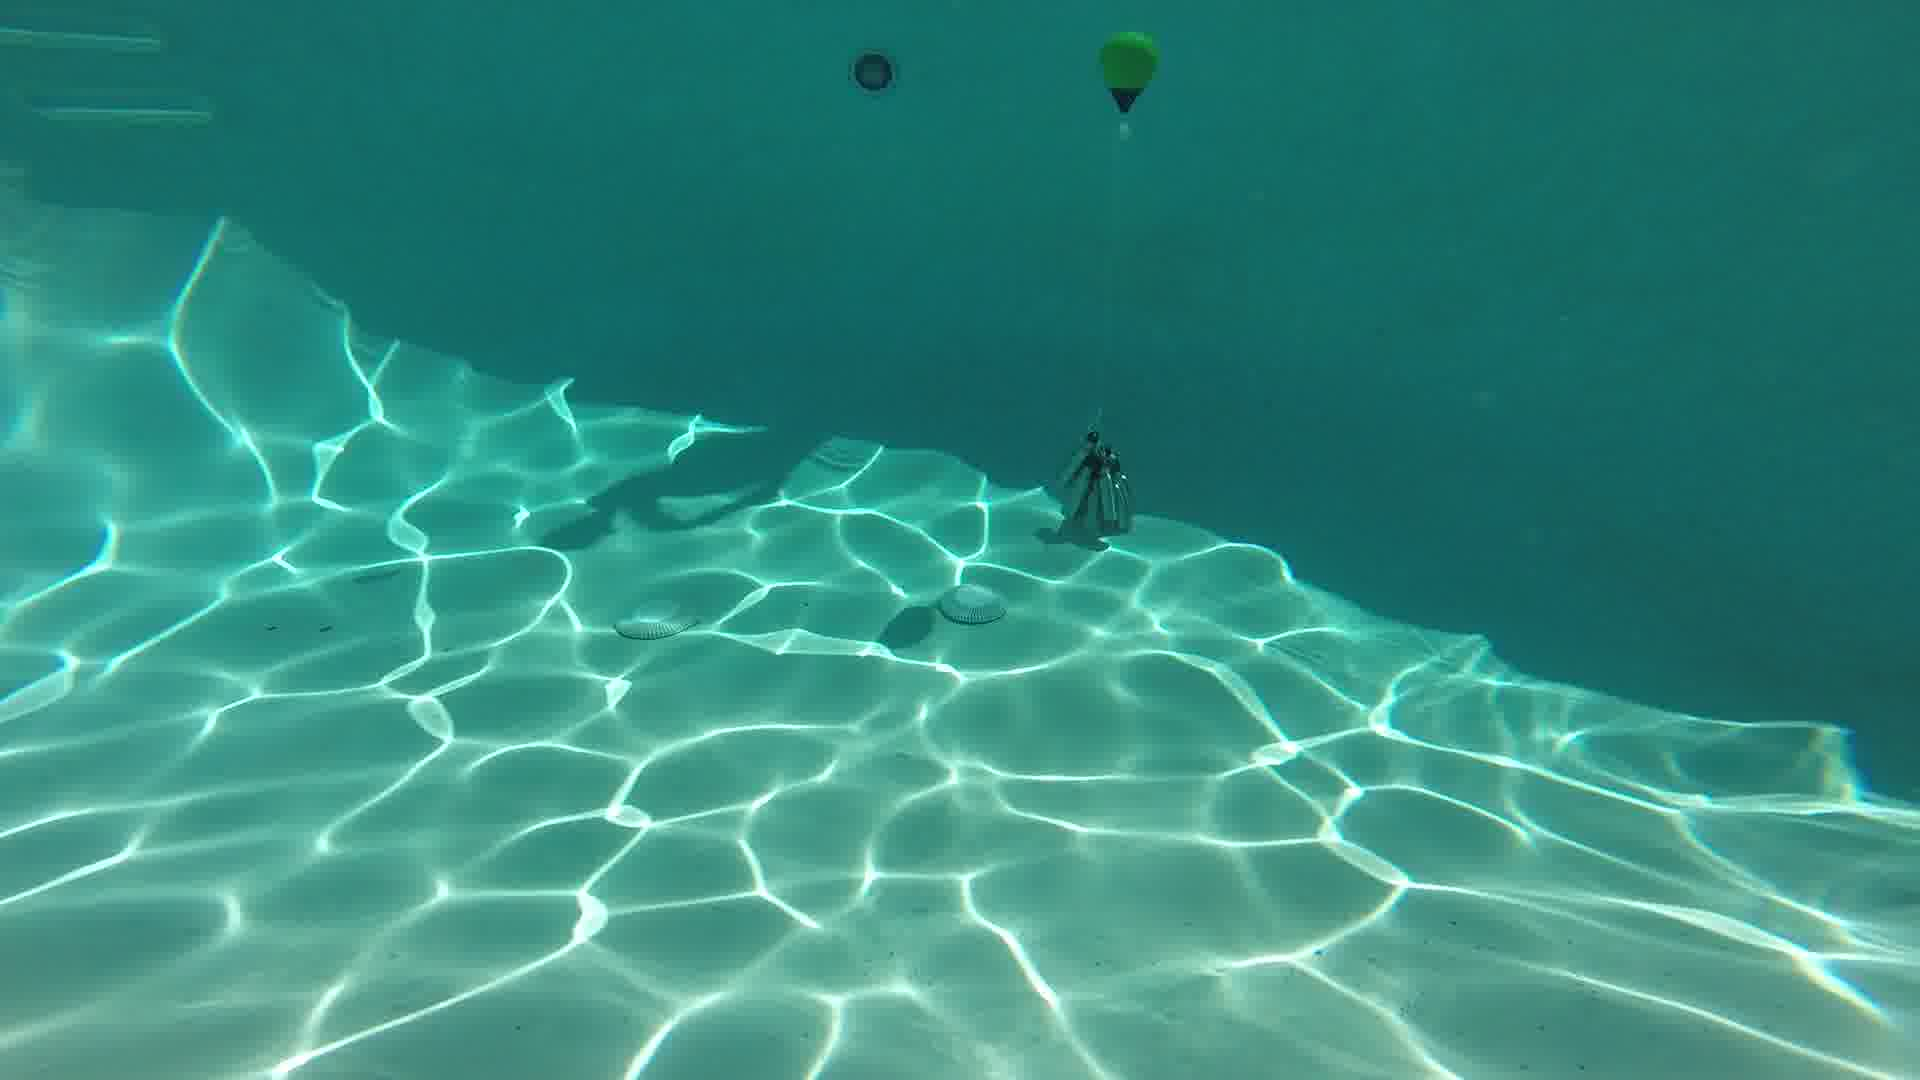yellow_buoy: (1098, 32, 1156, 115)
